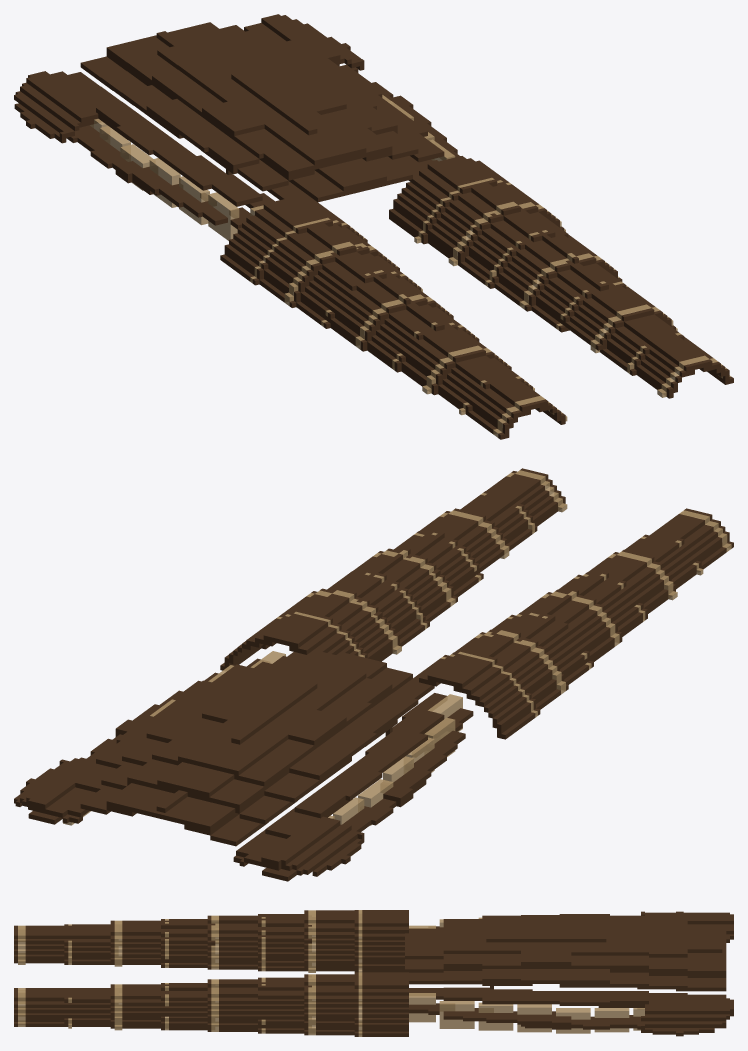
Rendered from armor_chitin.glb.
The picture shows the model from 3 angles, top to bottom: view 1: azimuth 30°, elevation 25°; view 2: azimuth 150°, elevation 25°; view 3: azimuth 270°, elevation 25°; orthographic projection. The views are drawn at different scales.
Parts seen in each view (by area): view 1: armor_chitin:compound; view 2: armor_chitin:compound; view 3: armor_chitin:compound.
Boxes of the visible parts, bbox=[...] form: armor_chitin:compound: bbox=[14, 14, 733, 439]; armor_chitin:compound: bbox=[14, 468, 733, 881]; armor_chitin:compound: bbox=[14, 910, 733, 1036].
Bounding box in the file's own units: 0.444 × 0.084 × 1.12.
